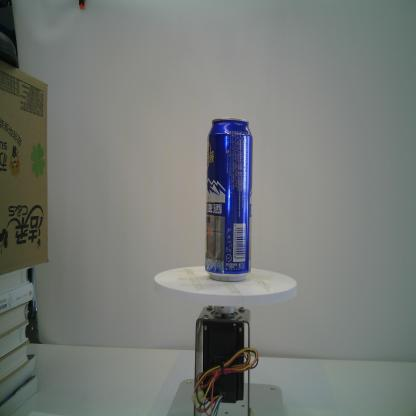Alcohol: (204, 116, 254, 285)
